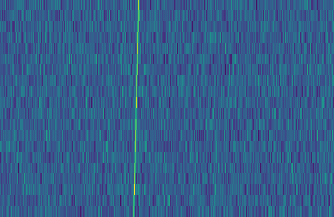signal: (128, 0, 141, 217)
